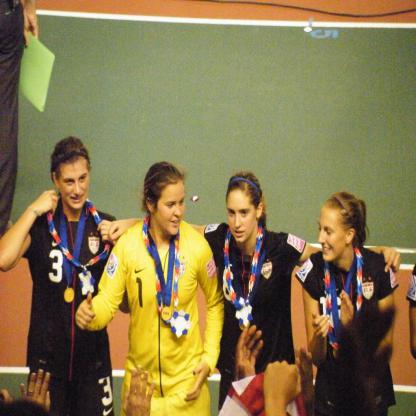face: (229, 191, 258, 244), (60, 159, 89, 210), (158, 185, 185, 237), (319, 209, 345, 263)
